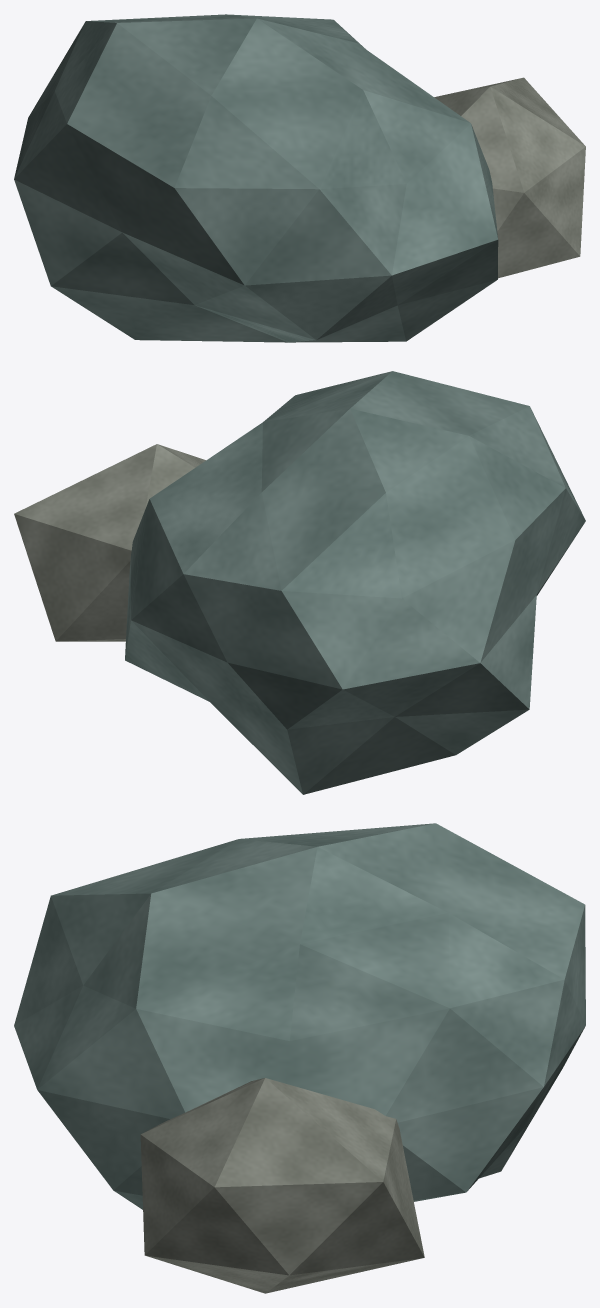
File: river_boulder.gltf
3 views of the same model, one above another, from view 1: azimuth 30°, elevation 25°; view 2: azimuth 150°, elevation 25°; view 3: azimuth 270°, elevation 25° (orthographic). The views are drawn at different scales.
Visible parts, largest first — view 1: river_boulder; view 2: river_boulder; view 3: river_boulder.
Part boxes in pixels (bbox=[...]): river_boulder: bbox=[14, 14, 585, 342]; river_boulder: bbox=[14, 371, 585, 794]; river_boulder: bbox=[14, 823, 585, 1293].
Size of the model in its own units: 2.06 by 1.31 by 1.86.
2 materials, 2 textured.
